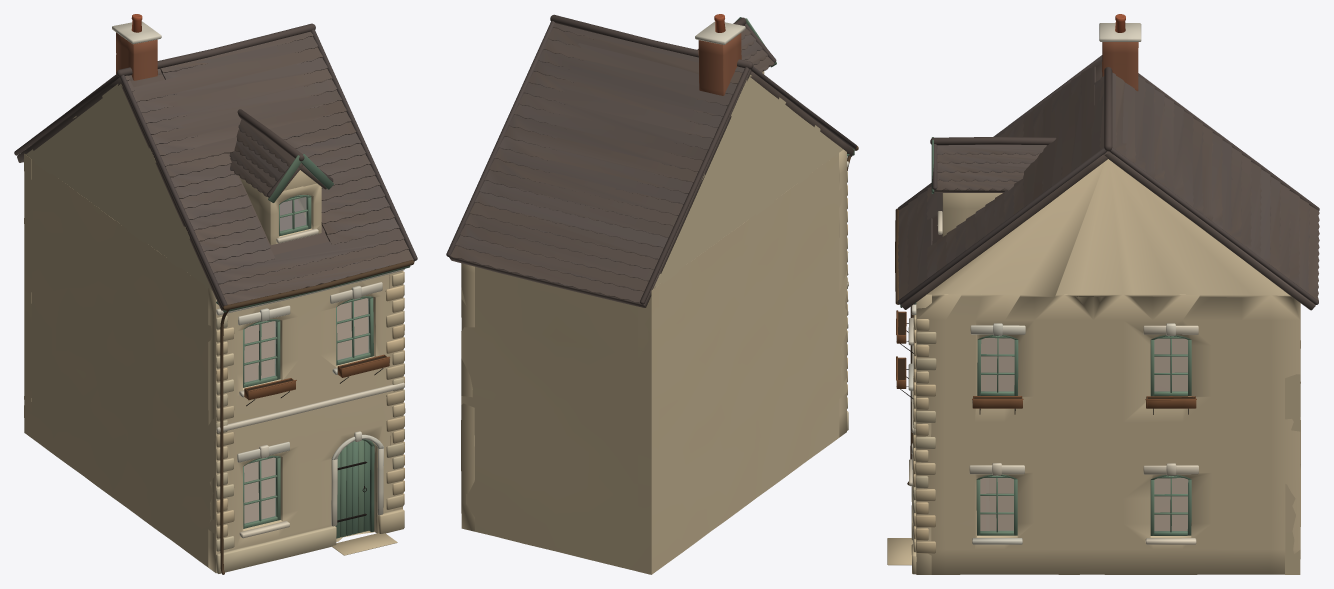
File: GateStreet_BehindInner2.glb
3 renders of one model, left to right at view 1: azimuth 30°, elevation 25°; view 2: azimuth 150°, elevation 25°; view 3: azimuth 270°, elevation 25°, orthographic.
Parts seen in each view (by area): view 1: Sammel Quader, Sammel Stein, Sammel Lack, Sammel Putz, Glas, Sammel Putz innen, Sammel Metall, Sammel Ziegel, Sammel Holz; view 2: Sammel Quader, Sammel Stein, Sammel Ziegel, Sammel Putz; view 3: Sammel Quader, Sammel Stein, Sammel Putz innen, Glas, Sammel Putz, Sammel Lack, Sammel Holz, Sammel Ziegel, Sammel Metall.
Boxes of the visible parts, x1,y1,x2,y2 form: Sammel Quader: (24,84,403,573); Sammel Stein: (14,23,417,573); Sammel Lack: (216,154,410,538); Sammel Putz: (112,14,404,538); Glas: (244,197,368,523); Sammel Putz innen: (244,298,368,522); Sammel Metall: (220,260,414,574); Sammel Ziegel: (116,32,157,80); Sammel Holz: (244,354,390,400); Sammel Quader: (461,71,846,574); Sammel Stein: (446,14,856,430); Sammel Ziegel: (698,33,741,95); Sammel Putz: (695,14,848,286); Sammel Quader: (915,159,1300,574); Sammel Stein: (887,55,1319,574); Sammel Putz innen: (980,338,1188,530); Glas: (980,338,1187,531); Sammel Putz: (898,14,1198,544); Sammel Lack: (900,137,1191,535); Sammel Holz: (896,310,1196,408); Sammel Ziegel: (1102,42,1138,91); Sammel Metall: (895,208,1188,485).
Bounding box in the file's own units: 4.99 × 10.99 × 9.
